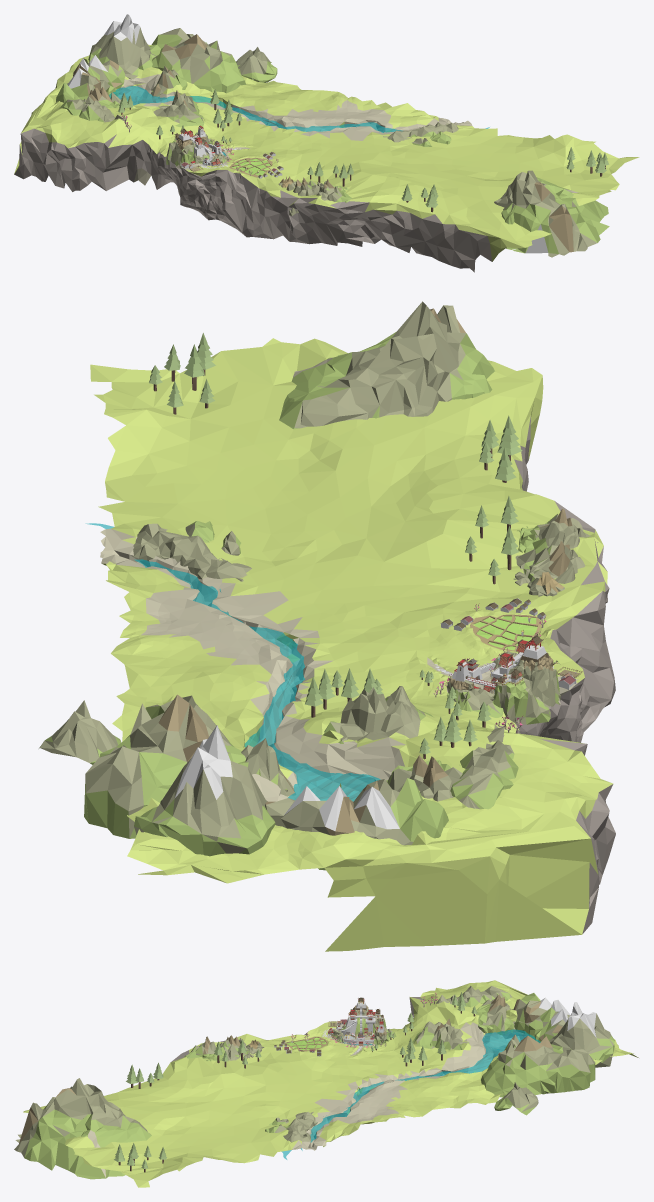
Rendered from SpringCity_8W_1.fbx.
The picture shows the model from 3 angles, top to bottom: view 1: azimuth 30°, elevation 25°; view 2: azimuth 150°, elevation 25°; view 3: azimuth 270°, elevation 25°; orthographic projection. The views are drawn at different scales.
Parts seen in each view (by area): view 1: pasted__polySurface137; view 2: pasted__polySurface137; view 3: pasted__polySurface137.
Boxes of the visible parts, x1,y1,x2,y2 form: pasted__polySurface137: (14, 14, 639, 272); pasted__polySurface137: (39, 301, 615, 951); pasted__polySurface137: (14, 980, 638, 1187).
Bounding box in the file's own units: 482 × 108 × 609.
